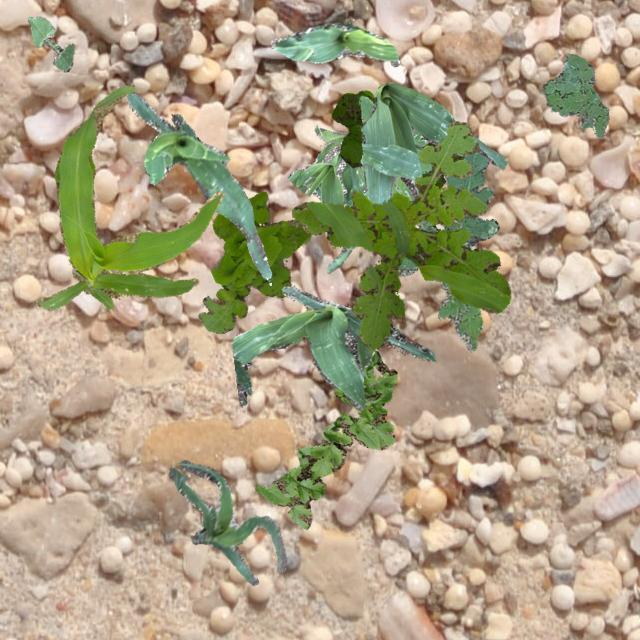crop: (34, 82, 222, 308), (126, 92, 270, 278), (230, 284, 434, 408), (360, 82, 506, 204), (168, 458, 286, 584), (327, 180, 398, 272), (286, 125, 366, 206), (270, 20, 398, 66), (26, 15, 74, 70)
weed: (292, 122, 509, 350), (254, 350, 396, 528), (396, 150, 498, 352), (198, 190, 310, 332), (331, 90, 464, 188), (358, 94, 432, 202), (540, 52, 608, 138)
